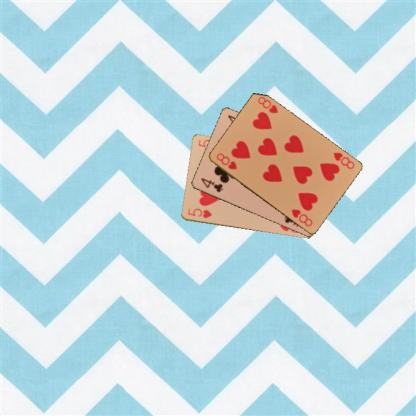4c: (198, 175, 224, 194)
5h: (185, 206, 213, 220)
8h: (330, 150, 355, 171), (214, 150, 238, 171)
